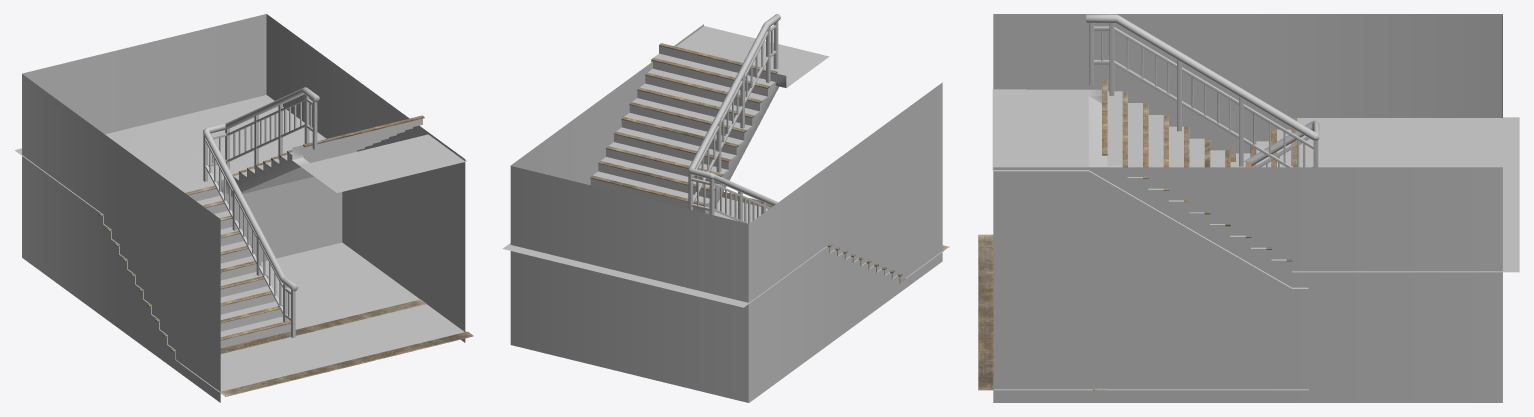
File: stairwell_ground.FBX
The picture shows the model from 3 angles, left to right: view 1: azimuth 30°, elevation 25°; view 2: azimuth 150°, elevation 25°; view 3: azimuth 270°, elevation 25°; orthographic projection. The views are drawn at different scales.
Visible parts, largest first — view 1: stairwell_ground; view 2: stairwell_ground; view 3: stairwell_ground.
Boxes of the visible parts, bbox=[...] form: stairwell_ground: bbox=[14, 14, 473, 402]; stairwell_ground: bbox=[502, 14, 949, 402]; stairwell_ground: bbox=[978, 14, 1519, 402].
Bounding box in the file's own units: 466 × 441 × 680.
